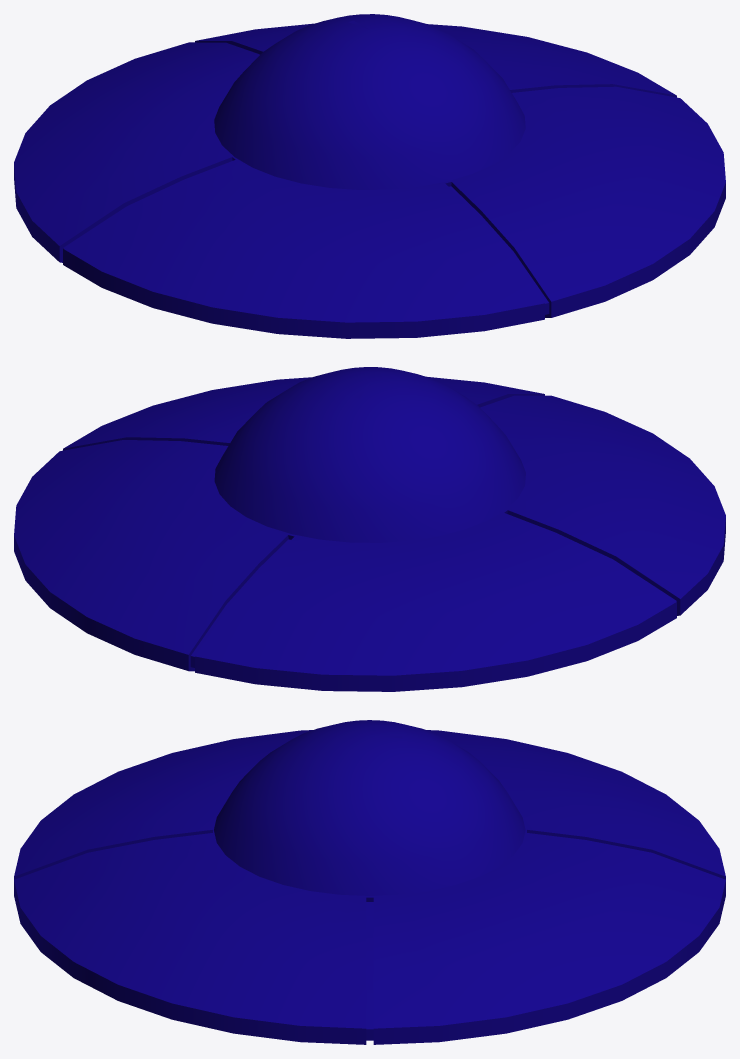
File: ufo.obj
The picture shows the model from 3 angles, top to bottom: view 1: azimuth 30°, elevation 25°; view 2: azimuth 150°, elevation 25°; view 3: azimuth 270°, elevation 25°; orthographic projection.
Visible parts, largest first — view 1: Low_poly_UFO:UFO_body1; view 2: Low_poly_UFO:UFO_body1; view 3: Low_poly_UFO:UFO_body1.
Part boxes in pixels (x1,y1,x2,y2): Low_poly_UFO:UFO_body1: [14, 14, 725, 338]; Low_poly_UFO:UFO_body1: [14, 367, 725, 691]; Low_poly_UFO:UFO_body1: [14, 720, 725, 1044].
Bounding box in the file's own units: 13.17 × 5.25 × 13.17.
